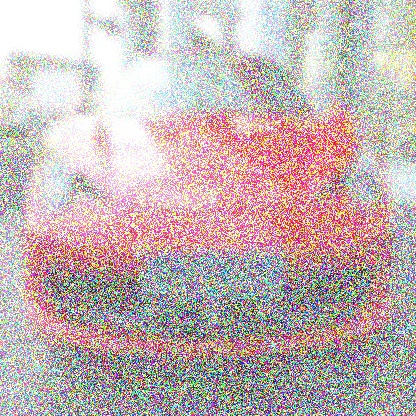Vehicle: (26, 51, 400, 361)
